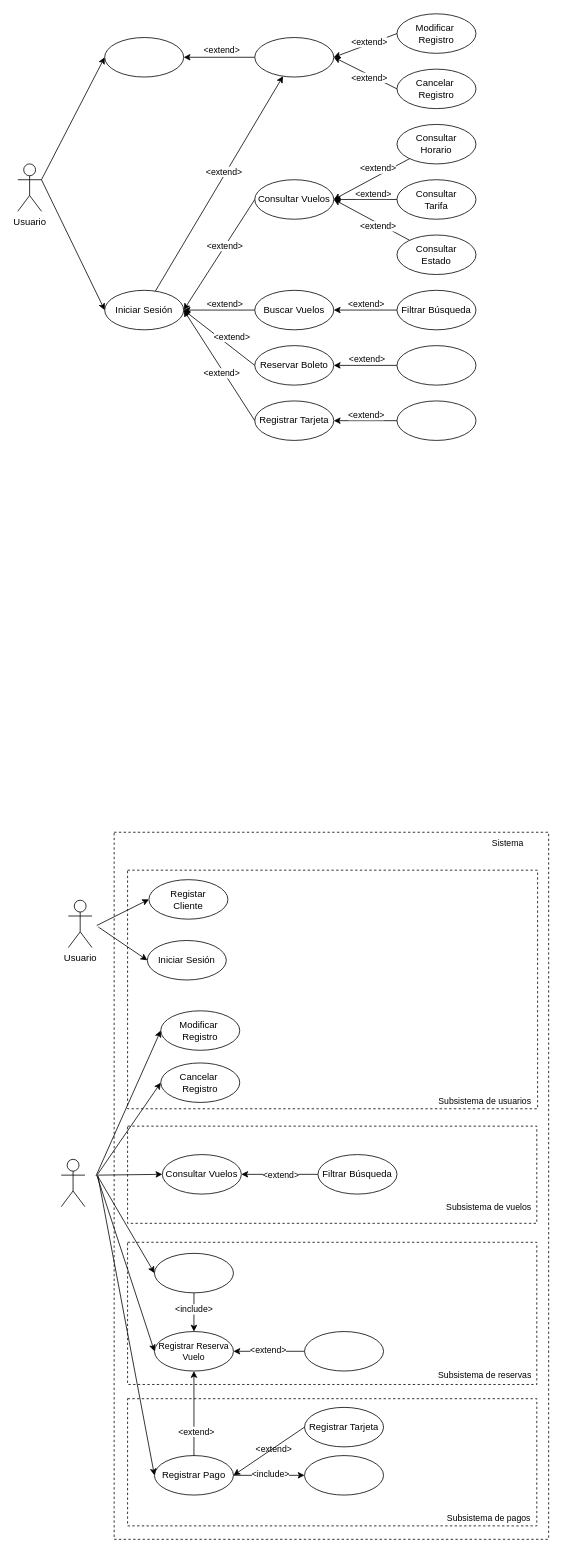
Image size: 562x1553. Some labels were removed from this diagram. The centre of each missing label's shape, as x and y in pixels:
Autentificar Usuario: point (294, 57)
Cliente: point (72, 1183)
Generar Boleto: point (344, 1475)
Pagar Boleto: point (436, 420)
Registar Usuario: point (144, 57)
Registrar Reserva Asiento: point (344, 1351)
Registrar Reserva Itinerario: point (193, 1273)
Reservar Itinerario: point (436, 365)
